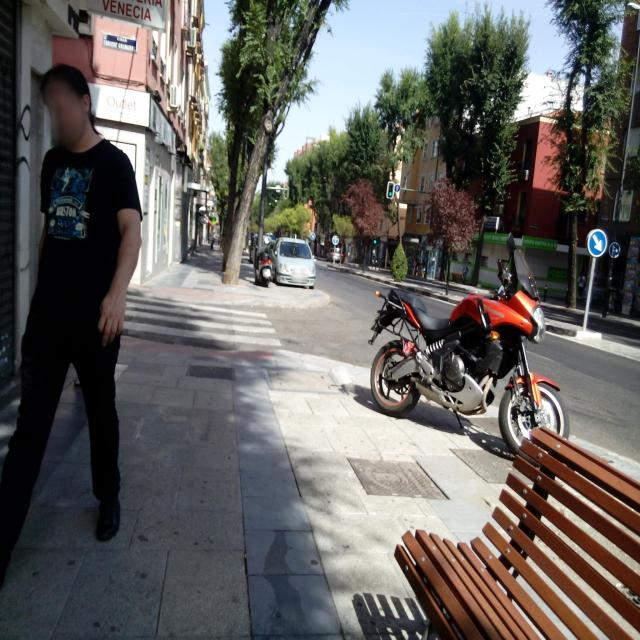bike: (369, 266, 544, 458)
car: (269, 237, 317, 290), (328, 247, 344, 264)
